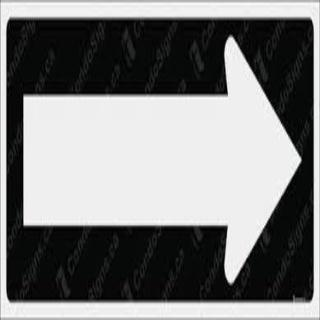sign_oneway_right: (7, 21, 307, 300)
